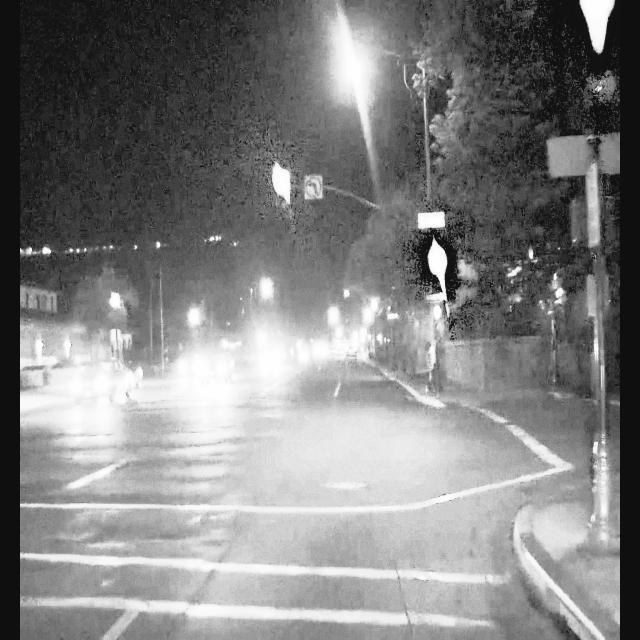Light: (529, 226, 543, 277), (275, 171, 287, 191), (431, 249, 441, 269)
Sign: (545, 137, 620, 177), (572, 197, 603, 241), (587, 274, 608, 318), (303, 174, 323, 200), (419, 213, 446, 228)
